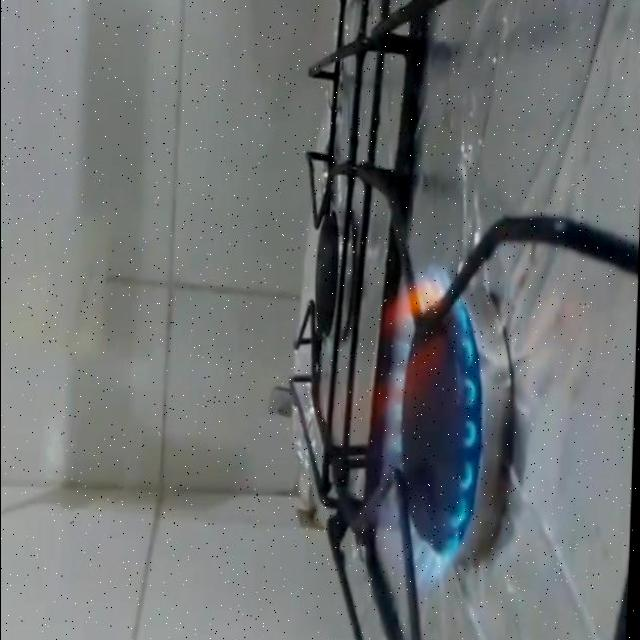fire: (311, 261, 485, 607)
